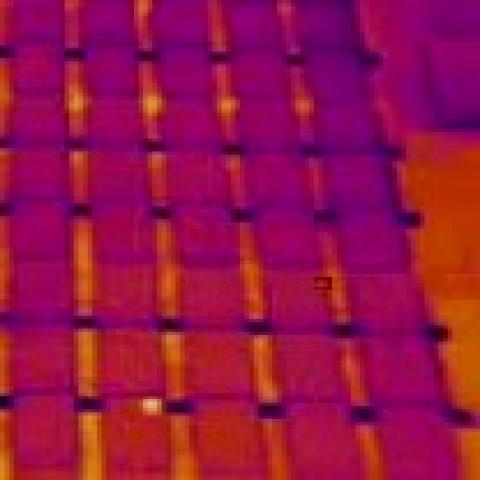fault: (143, 400, 162, 416), (314, 277, 332, 290)
